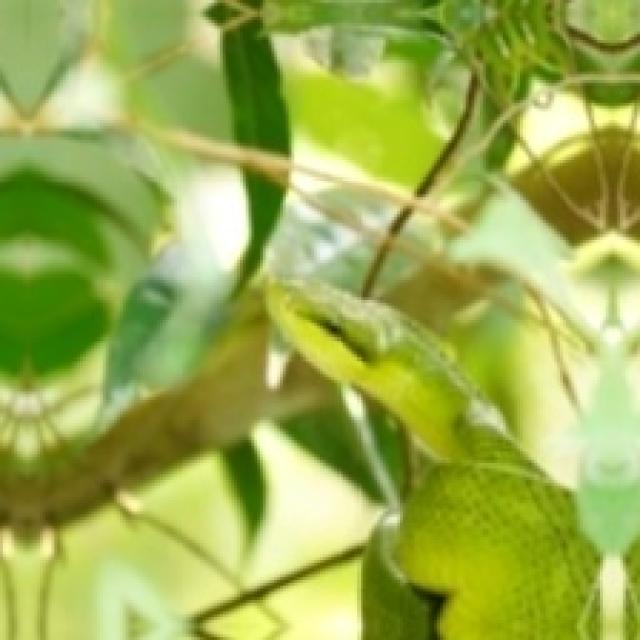red-tailed green ratsnake: (266, 280, 597, 637), (266, 280, 594, 637)
